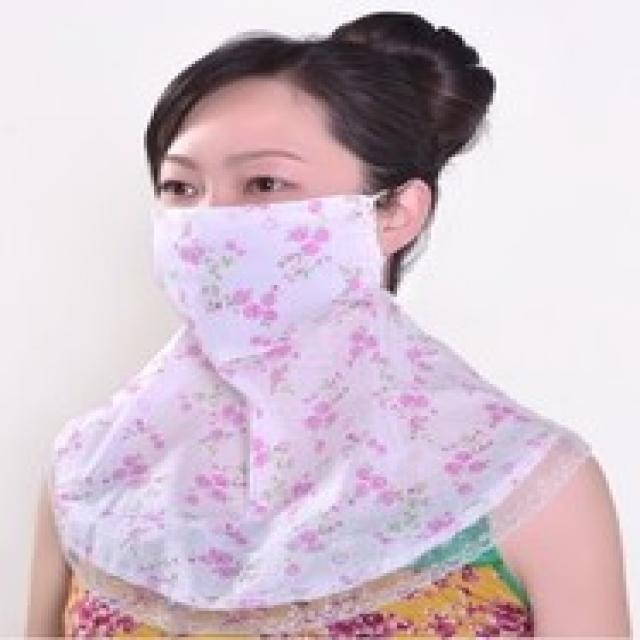mask: (149, 74, 371, 368)
